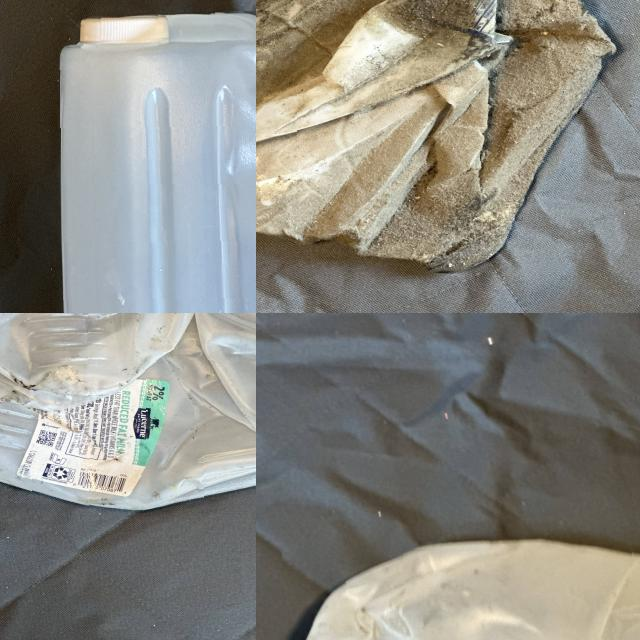milk-jug: (256, 0, 614, 273), (62, 10, 256, 313), (0, 313, 256, 508), (283, 543, 640, 640)
